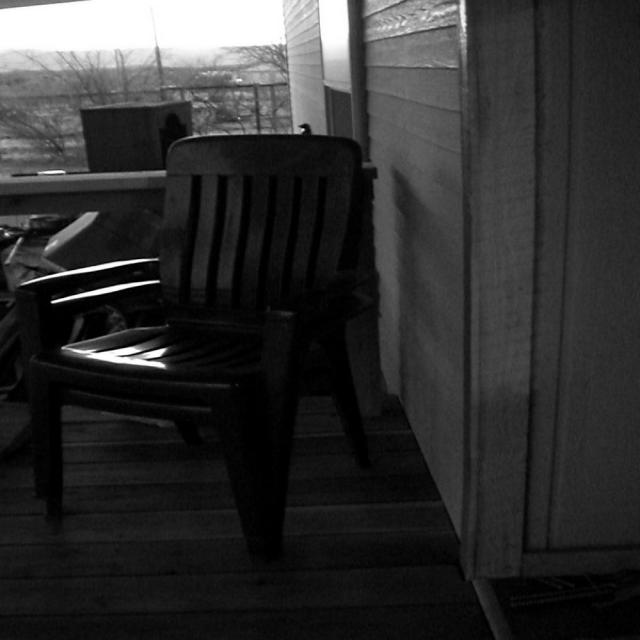Table: (0, 97, 177, 289)
chair: (4, 107, 376, 565)
